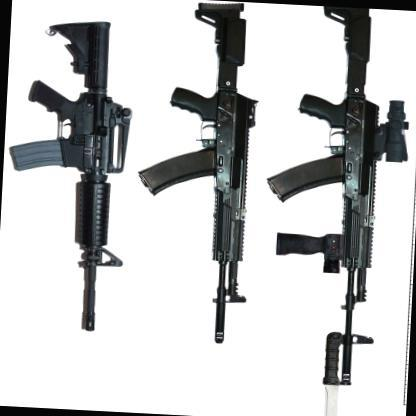rifle: (253, 3, 413, 397), (133, 0, 279, 349), (2, 18, 136, 341)
